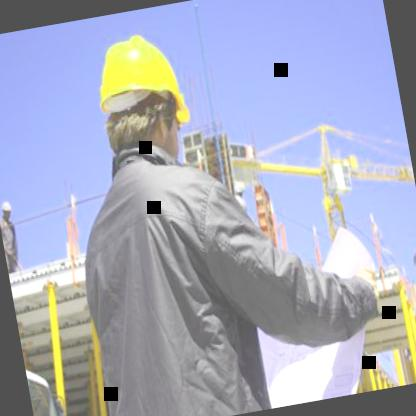helmet: (78, 12, 203, 185), (0, 195, 16, 226)
